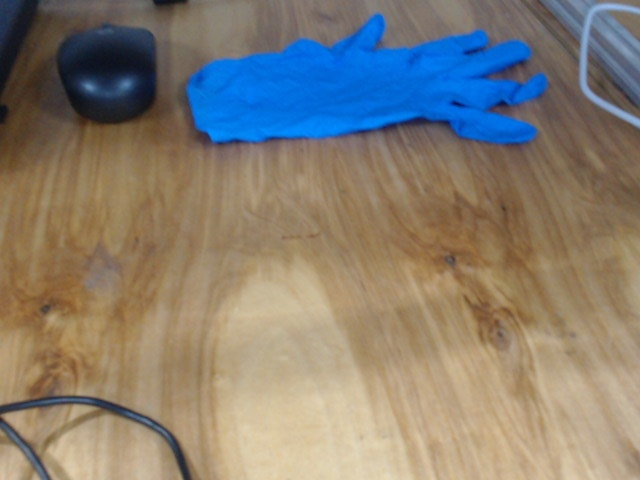medical_glove: (186, 13, 544, 148)
